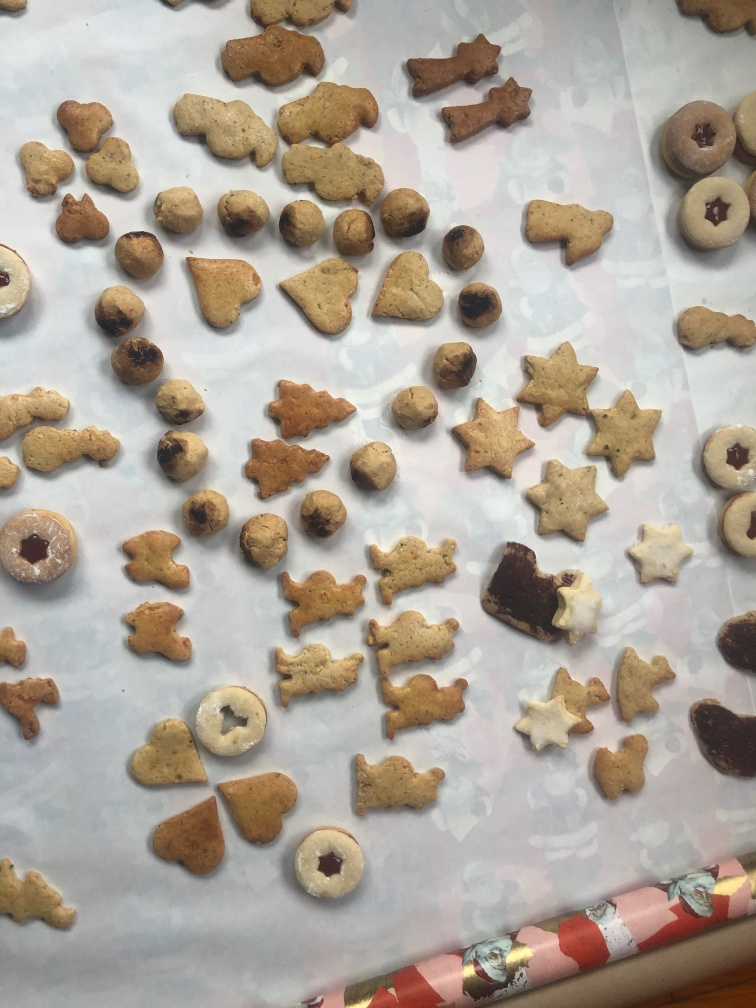angel: (518, 193, 615, 274)
christmas shortbread with jam: (653, 96, 736, 184), (3, 507, 84, 590), (290, 823, 366, 911), (676, 172, 755, 250), (194, 683, 271, 760), (697, 420, 756, 494), (719, 487, 755, 564), (2, 244, 34, 329)
christmas tree: (260, 370, 359, 448), (243, 433, 331, 502)
flake: (46, 185, 115, 253), (52, 93, 115, 162), (13, 139, 77, 202)
heart: (275, 254, 363, 343), (213, 769, 302, 854), (143, 794, 226, 885), (183, 251, 263, 335), (122, 716, 210, 790), (370, 249, 449, 327)
king mage: (1, 851, 83, 941)
lamb: (119, 598, 202, 670), (116, 524, 194, 600), (588, 727, 654, 811), (613, 646, 677, 730), (548, 661, 609, 737)
santa claus: (168, 91, 281, 178), (268, 135, 388, 214), (343, 743, 447, 825), (216, 23, 332, 95), (273, 562, 370, 644), (360, 607, 462, 684), (370, 670, 470, 746), (364, 531, 458, 610), (259, 639, 366, 708), (278, 79, 381, 149)
shooting star: (403, 26, 504, 102), (436, 78, 540, 149)
snowball: (235, 507, 294, 573), (91, 283, 153, 341), (151, 426, 210, 486), (113, 224, 171, 284), (426, 335, 481, 398), (149, 184, 209, 239), (344, 438, 397, 499), (294, 488, 344, 550), (276, 196, 328, 255), (216, 188, 270, 244), (386, 384, 441, 438), (325, 204, 379, 258), (154, 377, 212, 427), (453, 283, 507, 336), (110, 336, 166, 387), (379, 189, 429, 245), (181, 486, 231, 540), (438, 224, 487, 276)
snowman: (15, 419, 125, 484), (673, 297, 756, 364), (3, 384, 76, 445)
squirrel: (3, 673, 65, 749)
star: (448, 393, 536, 485), (527, 457, 614, 549), (514, 341, 598, 433), (582, 389, 665, 482), (622, 516, 698, 593), (510, 689, 583, 756), (553, 574, 609, 644)
weird #1: (477, 543, 565, 651), (687, 693, 755, 782), (715, 606, 756, 678)
